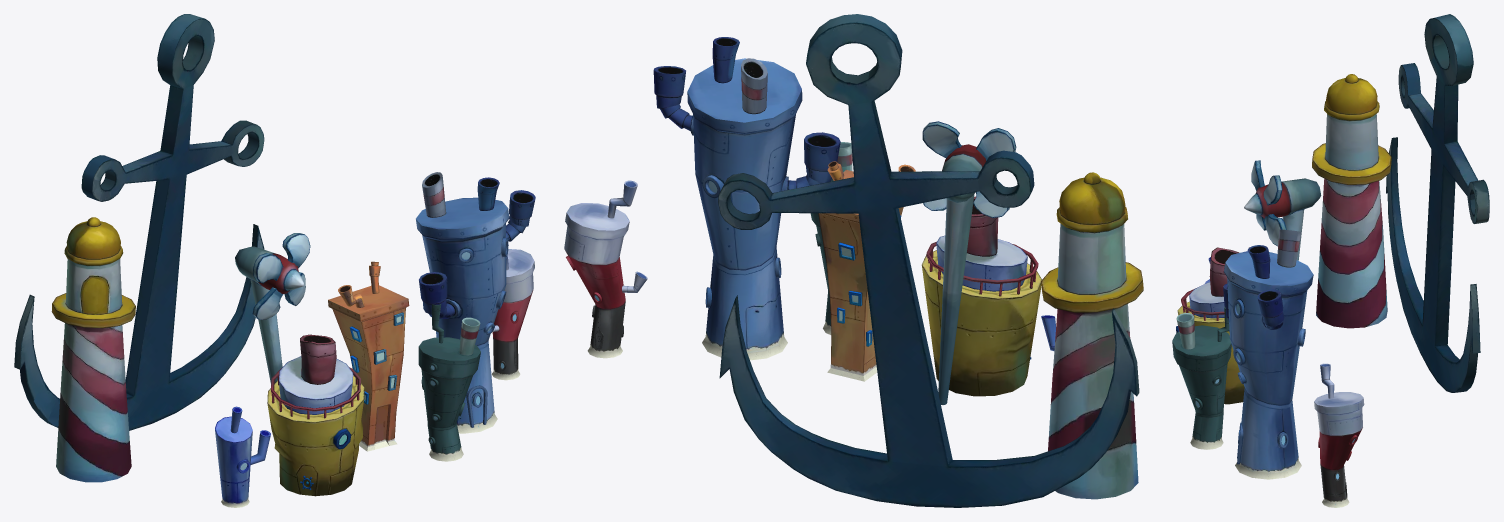
Rendered from patty-building.glb.
3 views of the same model, side by side, from view 1: azimuth 30°, elevation 25°; view 2: azimuth 150°, elevation 25°; view 3: azimuth 270°, elevation 25° (orthographic). The views are drawn at different scales.
Visible parts, largest first — view 1: Object_6, Object_2, Object_5, Object_3, Object_4; view 2: Object_2, Object_6, Object_5, Object_3; view 3: Object_6, Object_2, Object_3, Object_5.
Part boxes in pixels (bbox=[...]): Object_6: bbox=[328, 172, 535, 461]; Object_2: bbox=[14, 14, 264, 430]; Object_5: bbox=[235, 233, 364, 496]; Object_3: bbox=[51, 217, 135, 482]; Object_4: bbox=[215, 406, 270, 507]; Object_2: bbox=[718, 14, 1139, 507]; Object_6: bbox=[564, 37, 915, 381]; Object_5: bbox=[921, 121, 1041, 404]; Object_3: bbox=[1041, 172, 1143, 499]; Object_6: bbox=[1172, 229, 1364, 507]; Object_2: bbox=[1386, 14, 1489, 392]; Object_3: bbox=[1312, 74, 1391, 328]; Object_5: bbox=[1176, 160, 1321, 404].
Bounding box in the file's own units: 256 × 194 × 150.
5 materials, 5 textured.
